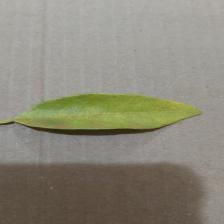healthy: (0, 87, 215, 146)
